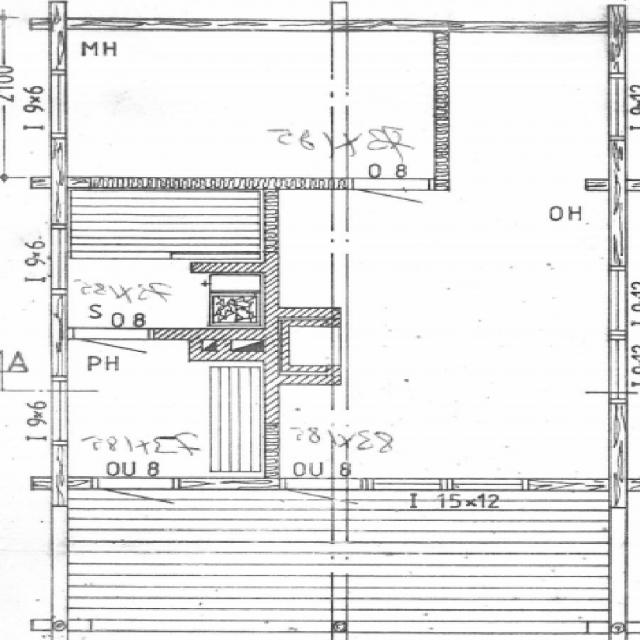door: (287, 478, 364, 545), (352, 177, 430, 243), (98, 478, 175, 544), (74, 328, 150, 393)
